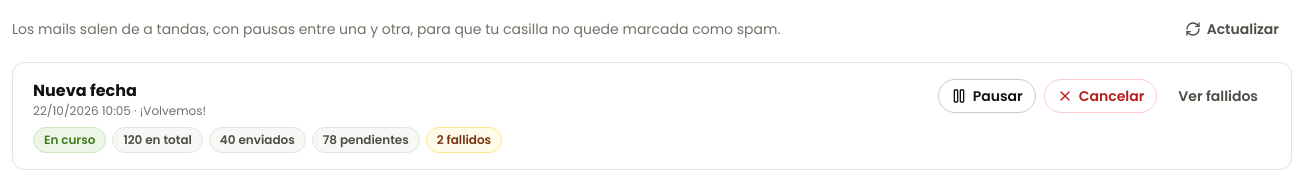
Test case: PanelEnvios › pausa un envío en curso
What coordinates should you click on to do the following:
click the button "Pausar"
I would click on:
 (987, 96)
Its box is left=938, top=79, right=1036, bottom=113.
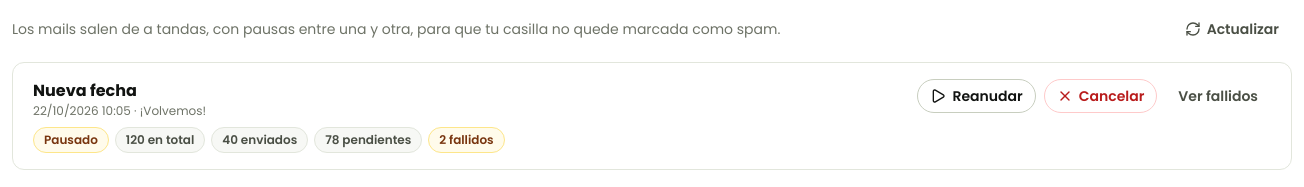
expect the text "Pausado" is shown: met, box left=33, top=127, right=109, bottom=153
expect the button "Reanudar" is shown: met, box left=918, top=79, right=1036, bottom=113
